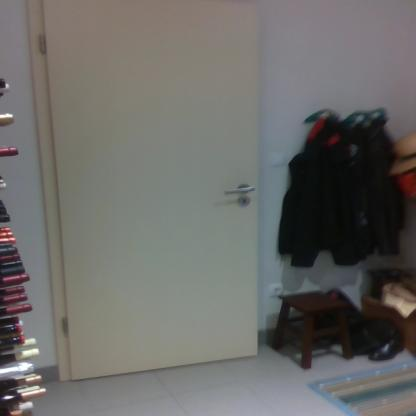closed: (17, 6, 272, 376)
